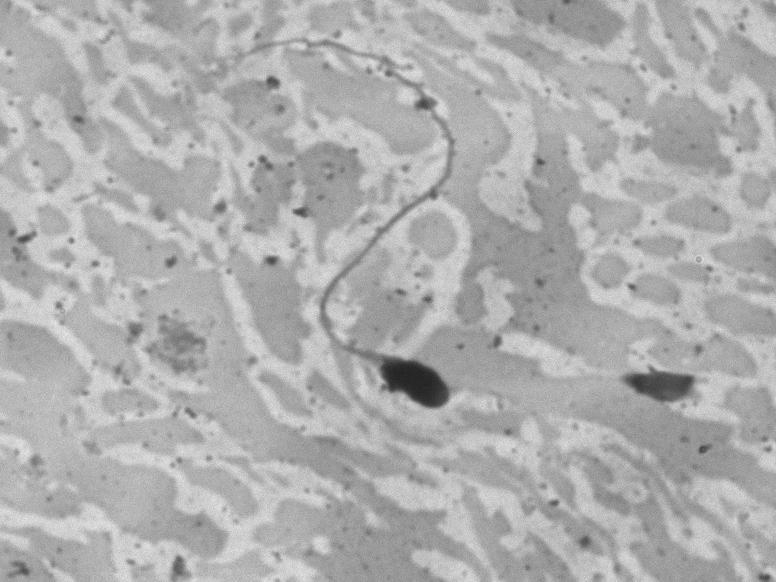Abnormal: (230, 20, 494, 430)
